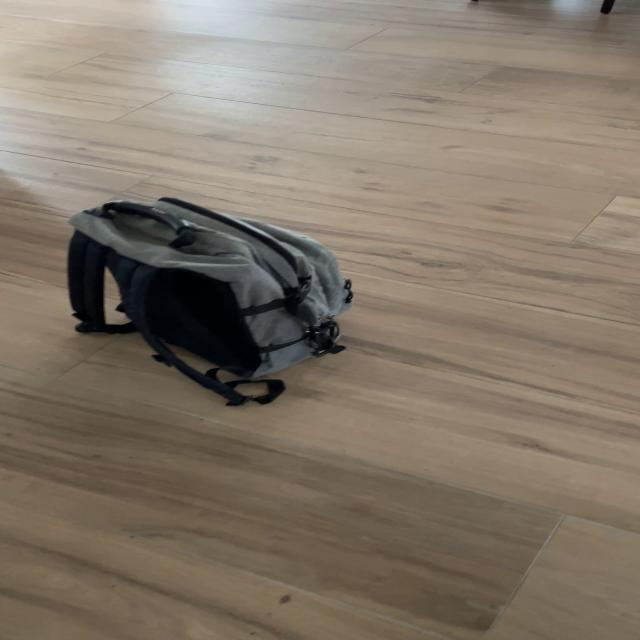backpack: (43, 194, 379, 403)
